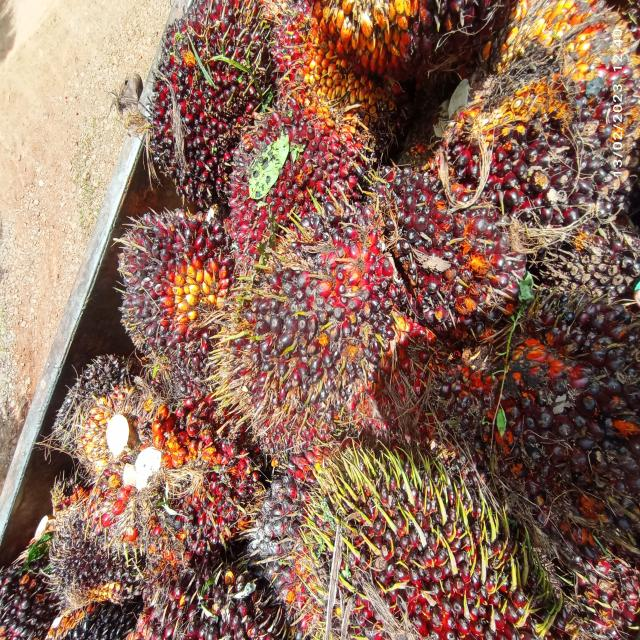fraksi 00: (41, 331, 134, 450), (33, 504, 129, 610)
fraksi 1: (423, 226, 640, 491), (435, 0, 640, 246), (198, 217, 404, 429), (310, 461, 535, 640), (361, 157, 530, 347), (131, 0, 275, 207), (98, 199, 234, 371)
fraksi 3: (140, 396, 258, 592), (222, 98, 368, 244)
